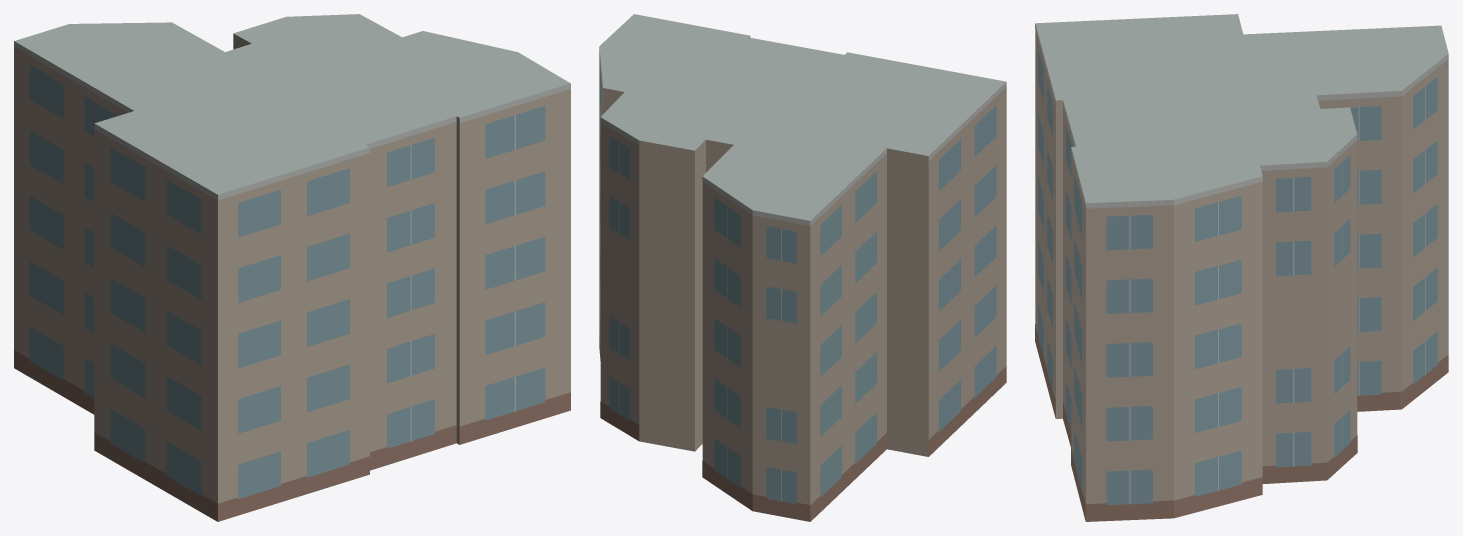
The model's file is survey-upis-32640655.glb.
The picture shows the model from 3 angles, left to right: view 1: azimuth 30°, elevation 25°; view 2: azimuth 150°, elevation 25°; view 3: azimuth 270°, elevation 25°; orthographic projection. The views are drawn at different scales.
Parts seen in each view (by area): view 1: survey-upis-32640655.tmp; view 2: survey-upis-32640655.tmp; view 3: survey-upis-32640655.tmp.
Boxes of the visible parts, x1,y1,x2,y2 form: survey-upis-32640655.tmp: (14,14,570,521); survey-upis-32640655.tmp: (599,14,1006,521); survey-upis-32640655.tmp: (1035,14,1448,521).
Size of the model in its own units: 18.11 by 14.2 by 16.71.
